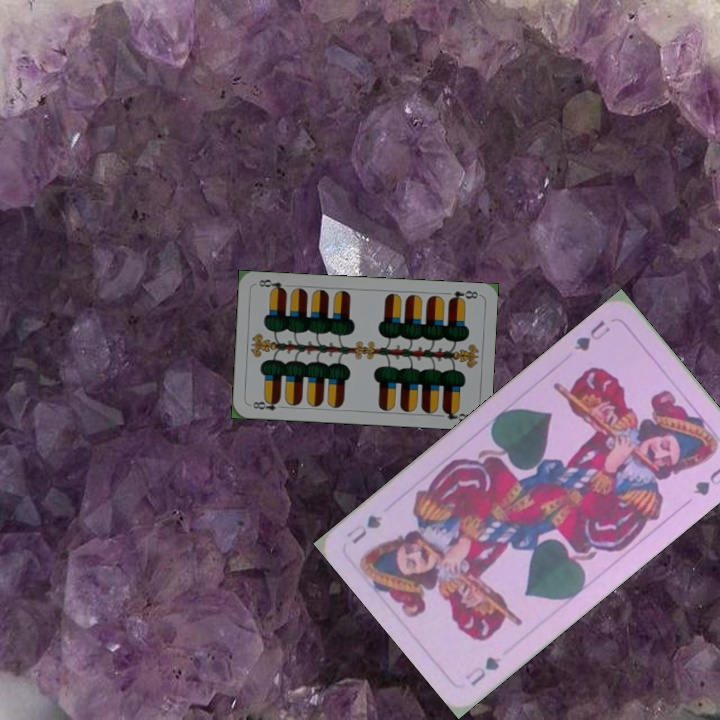E8: (247, 395, 287, 413), (445, 286, 480, 305)
GU: (569, 316, 613, 355), (461, 652, 504, 689)
